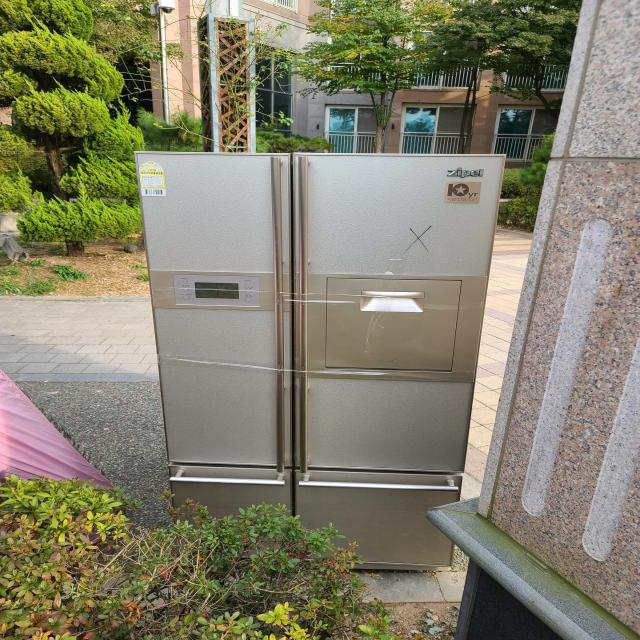refrigerator: (137, 147, 506, 574)
